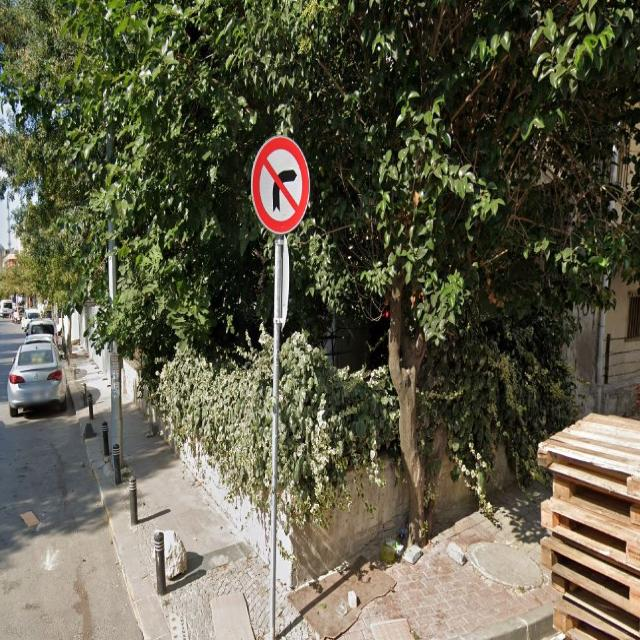sagadonulmez: (250, 136, 310, 233)
